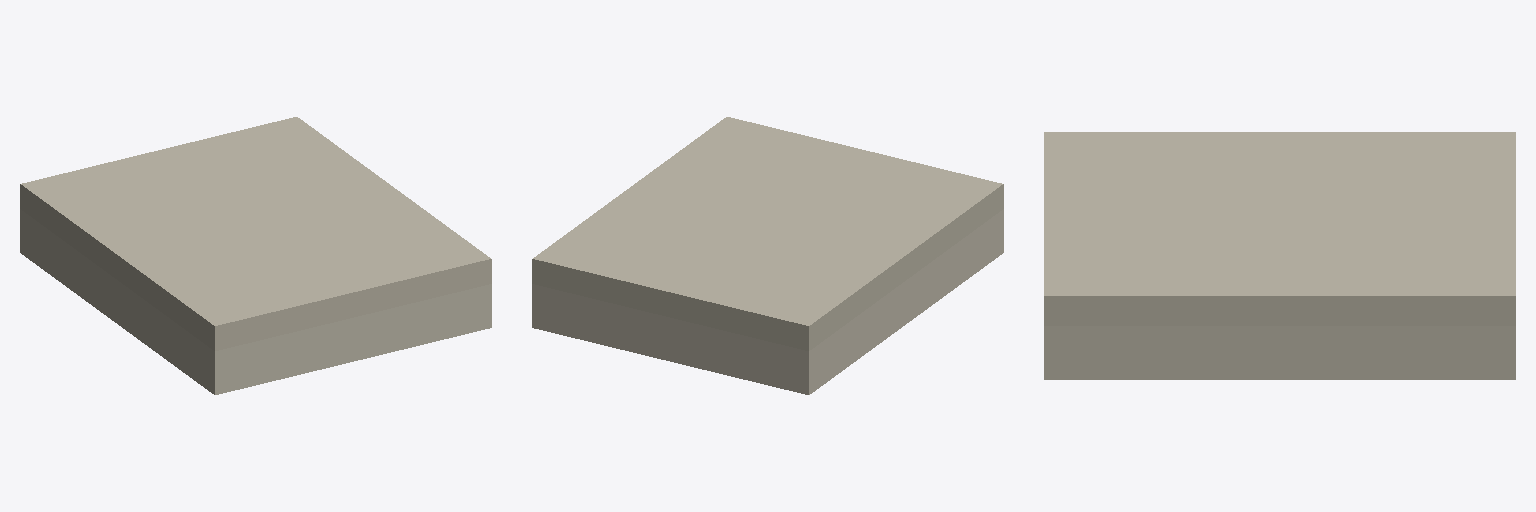
The robot description file, URDF, robot "old_laptop":
<?xml version="1.0"?>
<robot name="old_laptop">
  <!-- base / keyboard chassis, ~28cm wide (y) x 23cm deep (x) x 3.5cm thick (z) -->
  <link name="base">
    <inertial>
      <origin xyz="0 0 0" rpy="0 0 0"/>
      <mass value="2.0"/>
      <inertia ixx="0.01327" ixy="0" ixz="0" iyy="0.00902" iyz="0" izz="0.02188"/>
    </inertial>
    <visual>
      <origin xyz="0 0 0" rpy="0 0 0"/>
      <geometry>
        <box size="0.23 0.28 0.035"/>
      </geometry>
      <material name="beige">
        <color rgba="0.8 0.78 0.72 1.0"/>
      </material>
    </visual>
    <collision>
      <origin xyz="0 0 0" rpy="0 0 0"/>
      <geometry>
        <box size="0.23 0.28 0.035"/>
      </geometry>
    </collision>
  </link>

  <!-- lid / screen, same footprint, ~2cm thick -->
  <!-- link frame is at the hinge, 0 = closed flat on base -->
  <link name="lid">
    <inertial>
      <origin xyz="0.115 0 0.01" rpy="0 0 0"/>
      <mass value="0.8"/>
      <inertia ixx="0.00525" ixy="0" ixz="0" iyy="0.00355" iyz="0" izz="0.00875"/>
    </inertial>
    <visual>
      <origin xyz="0.115 0 0.01" rpy="0 0 0"/>
      <geometry>
        <box size="0.23 0.28 0.02"/>
      </geometry>
      <material name="beige_dark">
        <color rgba="0.78 0.76 0.70 1.0"/>
      </material>
    </visual>
    <collision>
      <origin xyz="0.115 0 0.01" rpy="0 0 0"/>
      <geometry>
        <box size="0.23 0.28 0.02"/>
      </geometry>
    </collision>
  </link>

  <!-- rear hinge, lateral axis, 0=closed, ~110deg=fully open -->
  <joint name="lid_hinge" type="revolute">
    <parent link="base"/>
    <child link="lid"/>
    <origin xyz="-0.115 0 0.0175" rpy="0 0 0"/>
    <axis xyz="0 -1 0"/>
    <limit lower="0" upper="1.92" effort="10" velocity="2.0"/>
    <dynamics damping="0.15" friction="0.2"/>
  </joint>
</robot>

--- Render facts (derived) ---
Views: 3 orthographic renders of the robot side by side, from view 1: azimuth 30°, elevation 25°; view 2: azimuth 150°, elevation 25°; view 3: azimuth 270°, elevation 25°.
Model old_laptop with 2 links and 1 joints (1 revolute), rooted at base, posed all joints at 0.
Visible links, largest first — view 1: lid, base; view 2: lid, base; view 3: lid, base.
Link boxes in pixels (<box>): lid: <box>20,117,491,350</box>; base: <box>20,209,491,394</box>; lid: <box>532,117,1003,350</box>; base: <box>532,209,1003,394</box>; lid: <box>1044,132,1515,325</box>; base: <box>1044,326,1515,379</box>.
Size in the robot's own frame: 0.23 by 0.28 by 0.055 metres.
Geometry: primitives only (box / cylinder / sphere), no mesh files.
